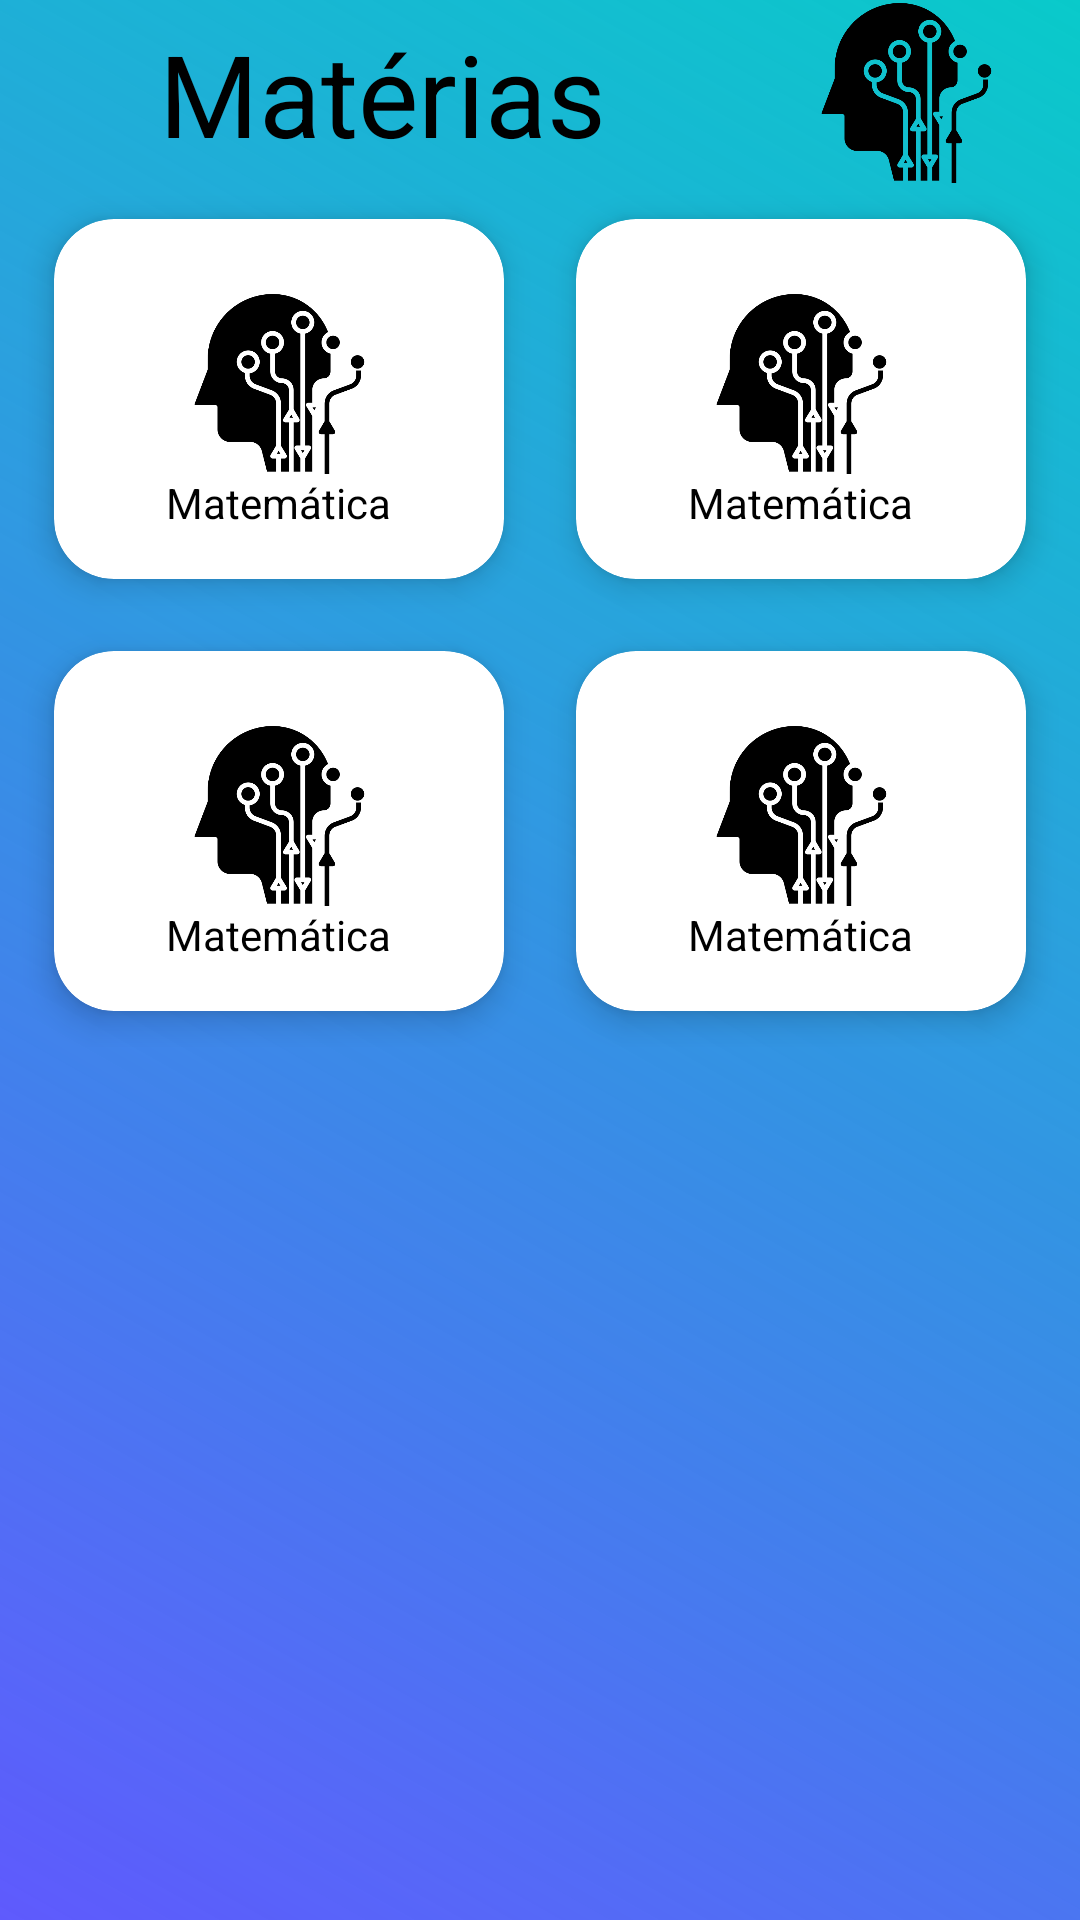

Screen size 1080px×1920px. Icon name, then its box in pixels as (x1, y1, x2, y2):
humanoid: (821, 3, 991, 183), (194, 294, 365, 474), (716, 294, 887, 474), (194, 726, 365, 906), (716, 726, 887, 906)
